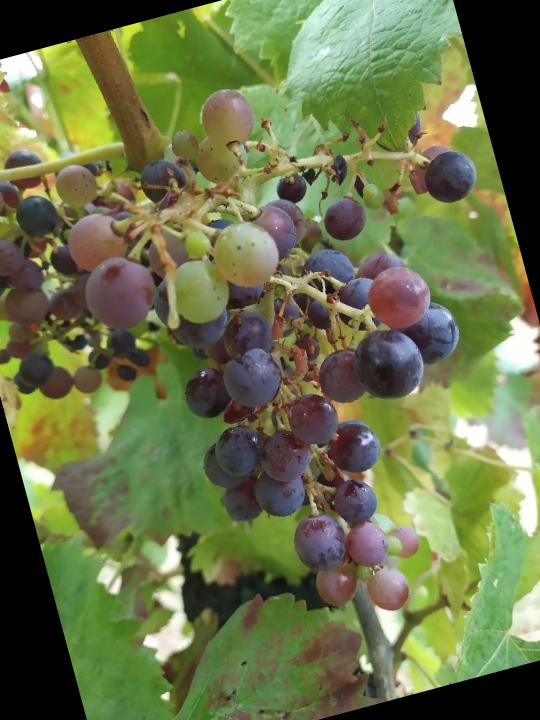grape: (0, 27, 540, 699)
